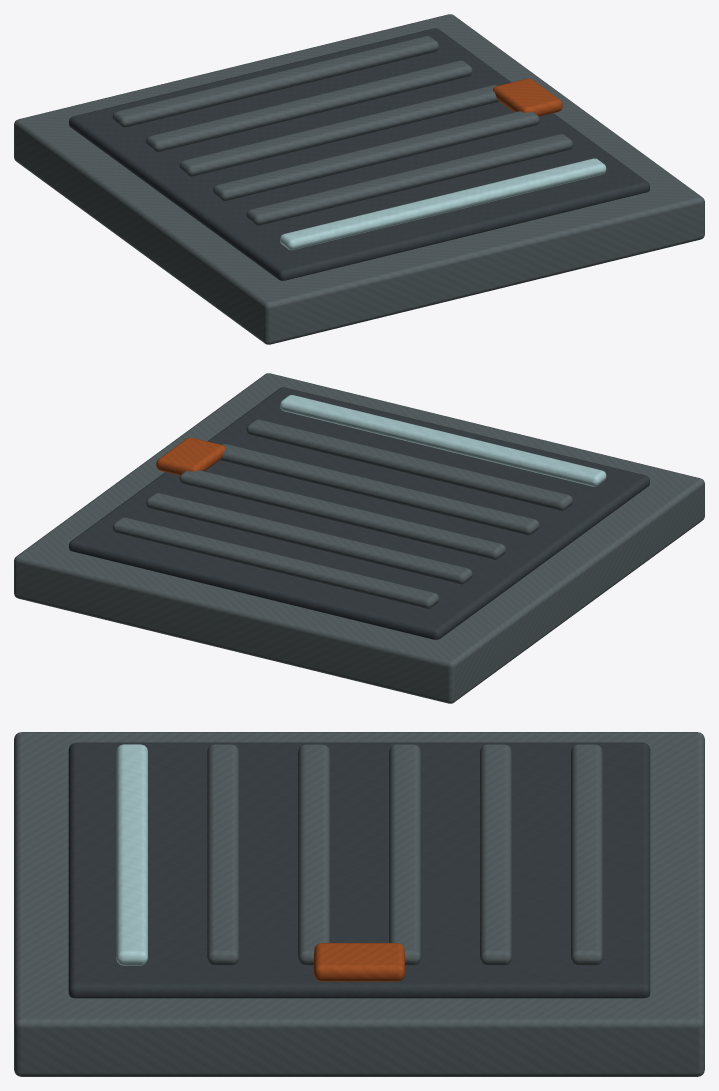
Rendered from FloorDrain.fbx.
The picture shows the model from 3 angles, top to bottom: view 1: azimuth 30°, elevation 25°; view 2: azimuth 150°, elevation 25°; view 3: azimuth 270°, elevation 25°; orthographic projection. The views are drawn at different scales.
Visible parts, largest first — view 1: FloorDrain_Mesh; view 2: FloorDrain_Mesh; view 3: FloorDrain_Mesh.
Boxes of the visible parts, x1,y1,x2,y2 form: FloorDrain_Mesh: (14, 14, 704, 344); FloorDrain_Mesh: (14, 373, 704, 703); FloorDrain_Mesh: (14, 732, 704, 1076).
Bounding box in the file's own units: 76 × 11 × 76.
